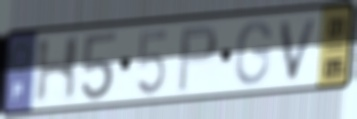5: (79, 29, 119, 103), (135, 26, 170, 98)
G: (233, 19, 274, 88)
H: (32, 32, 83, 108)
P: (175, 22, 219, 95)
V: (278, 15, 321, 84)
